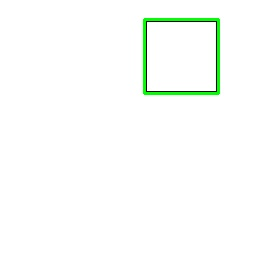line_segment: (143, 18, 220, 95)
